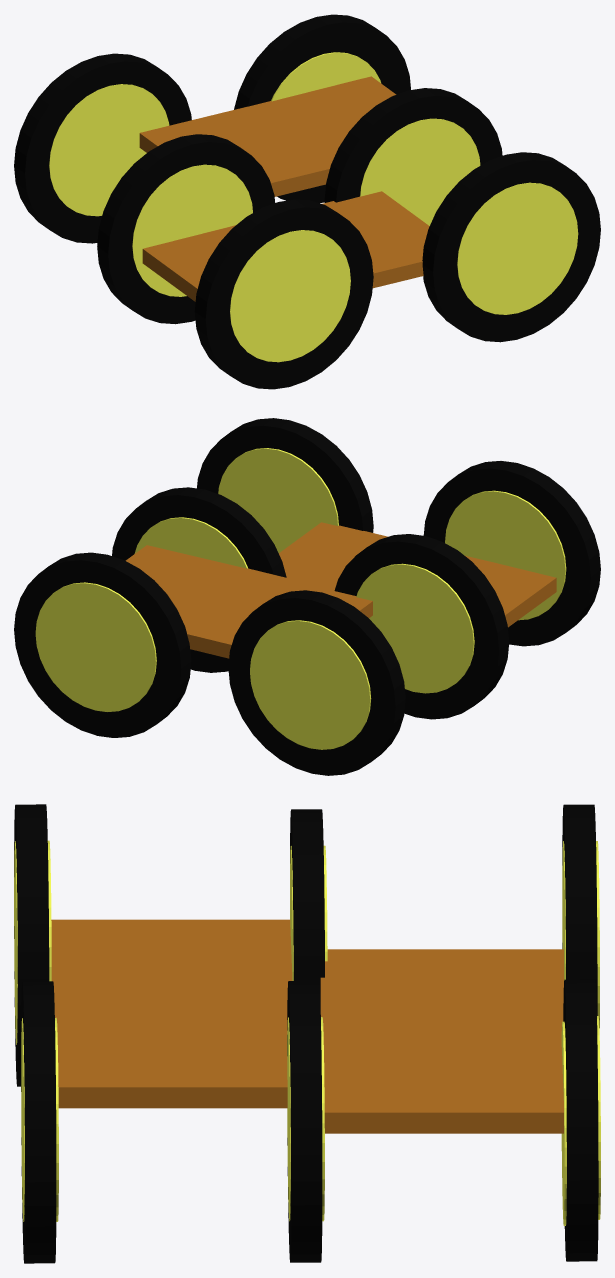
Rendered from pedalo.glb.
3 views of the same model, one above another, from view 1: azimuth 30°, elevation 25°; view 2: azimuth 150°, elevation 25°; view 3: azimuth 270°, elevation 25° (orthographic). The views are drawn at different scales.
Parts seen in each view (by area): view 1: Circle.017, Circle.001, Circle.016, Circle.018, Cube.002, Circle.006, Circle.011, Circle.004, Cube, Circle.003, Circle.015, Circle.013 (+2 smaller); view 2: Circle.011, Circle.003, Circle.008, Circle.010, Circle.001, Circle.006, Circle.012, Cube.002, Circle.019, Circle.002, Circle.017, Circle.005 (+2 smaller); view 3: Cube, Cube.002, Circle.017, Circle.005, Circle.003, Circle.001, Circle.011, Circle.006, Circle.020, Circle.015, Circle.018, Circle.016 (+3 smaller).
Boxes of the visible parts, x1,y1,x2,y2 form: Circle.017: (422,152,600,342); Circle.001: (194,199,373,389); Circle.016: (457,182,578,314); Circle.018: (230,230,350,362); Cube.002: (139,76,396,196); Circle.006: (97,134,275,324); Circle.011: (14,53,191,243); Circle.004: (49,84,169,216); Cube: (142,191,429,301); Circle.003: (234,14,410,203); Circle.015: (360,118,480,225); Circle.013: (132,164,252,296); Circle.011: (228,590,405,775); Circle.003: (14,552,191,737); Circle.008: (35,582,156,711); Circle.010: (250,620,371,749); Circle.001: (423,461,600,646); Circle.006: (334,534,509,719); Circle.012: (356,563,474,693); Cube.002: (125,545,372,658); Circle.019: (445,490,566,620); Circle.002: (218,448,338,552); Circle.017: (197,418,373,532); Circle.005: (112,487,286,672); Cube: (51,919,292,1108); Cube.002: (320,949,563,1133); Circle.017: (21,981,56,1263); Circle.005: (287,980,322,1262); Circle.003: (563,979,598,1261); Circle.001: (14,804,49,1086); Circle.011: (562,804,597,1015); Circle.006: (290,809,324,1001); Circle.020: (561,1021,566,1225); Circle.015: (287,1017,290,1221); Circle.018: (14,841,17,1044); Circle.016: (21,1018,24,1221).
Size of the model in its own units: 2.04 by 0.9427 by 1.79.
